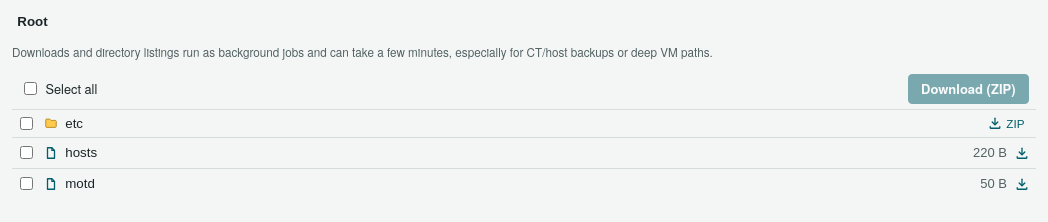
FileBrowserPanel › shows the failed filename in the error message, distinct per download
The width and height of the screenshot is (1048, 222).
Expected: the text "hosts" is shown, [65,145,97,160]
Click the button "hosts 220 B" at point(81, 153), box [36,138,1036,168]
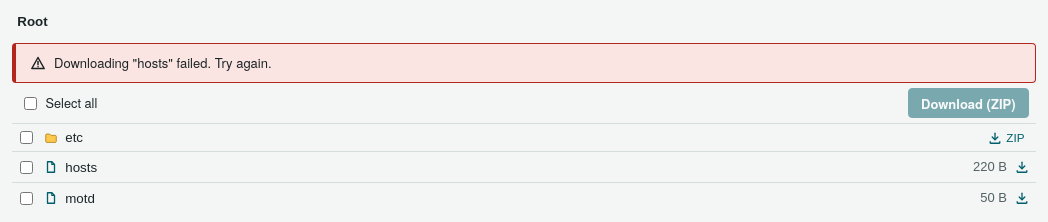
Now the text "Downloading \"hosts\" failed. Try again." is shown, box [54,54,272,72]
